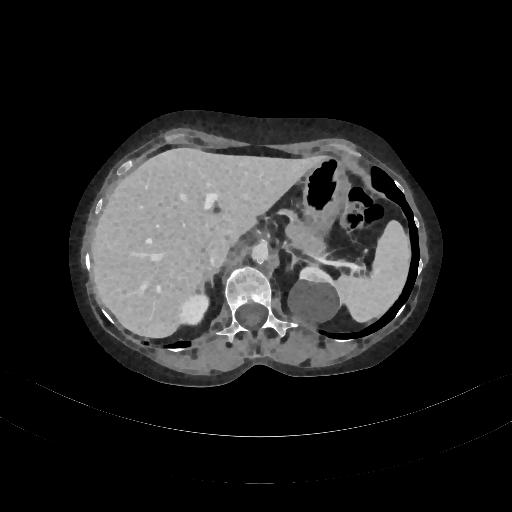Lesion: (281, 273, 344, 327)
